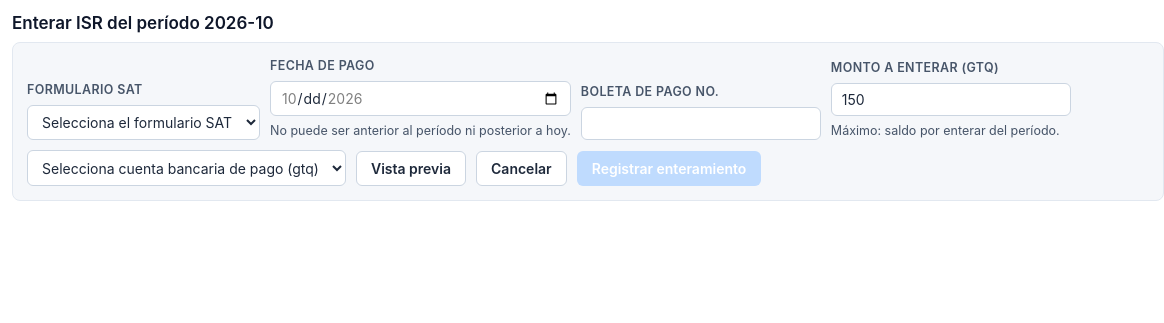
Test: FormularioEnteramiento › muestra la vista previa y la borra al cambiar un campo
The width and height of the screenshot is (1164, 323).
Select "SAT-1331" in the dropdown labelled "Formulario SAT": (144, 123) [27, 105, 260, 140]
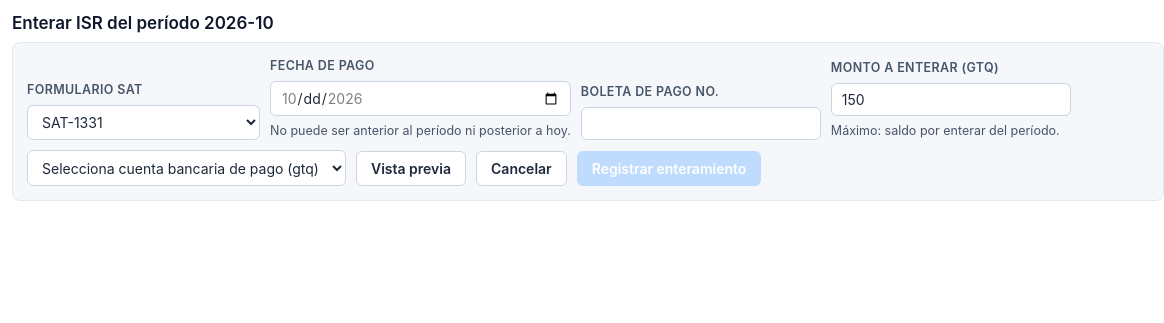
In the date field labelled "Fecha de pago": (420, 99) [270, 81, 571, 116], type "2026-10-10"
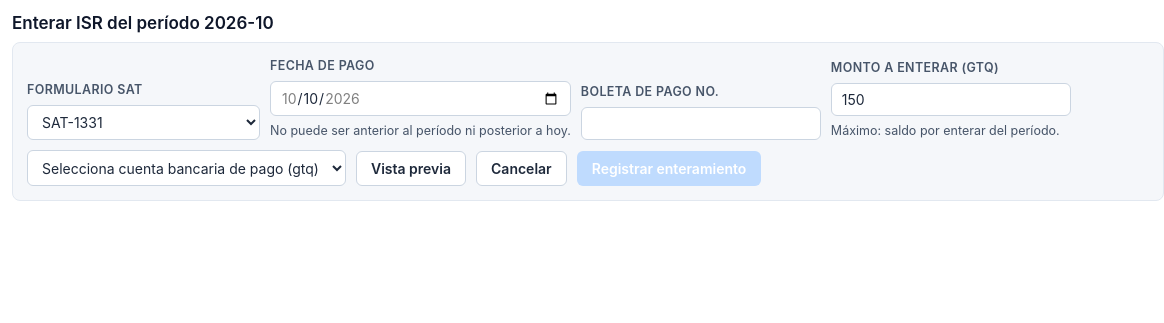
In the field labelled "Boleta de pago No.": (701, 124) [581, 107, 821, 140], type "B-1"
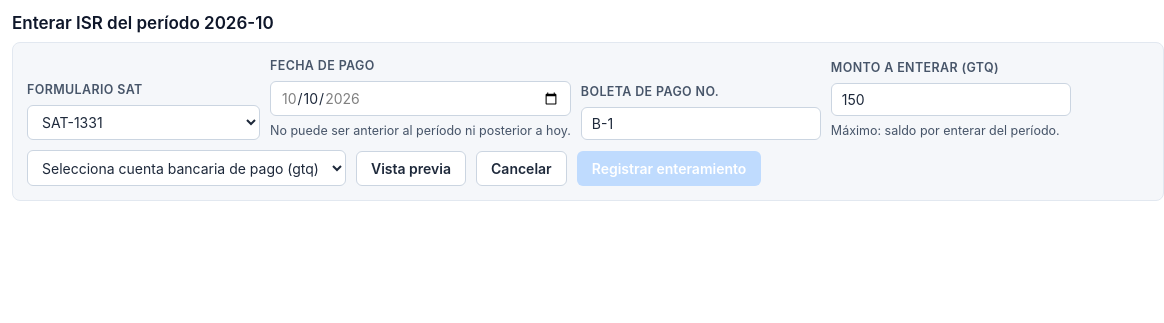
Select "Banco Industrial 001" in the dropdown named "Cuenta bancaria de pago (GTQ)": (186, 168) [27, 150, 346, 186]
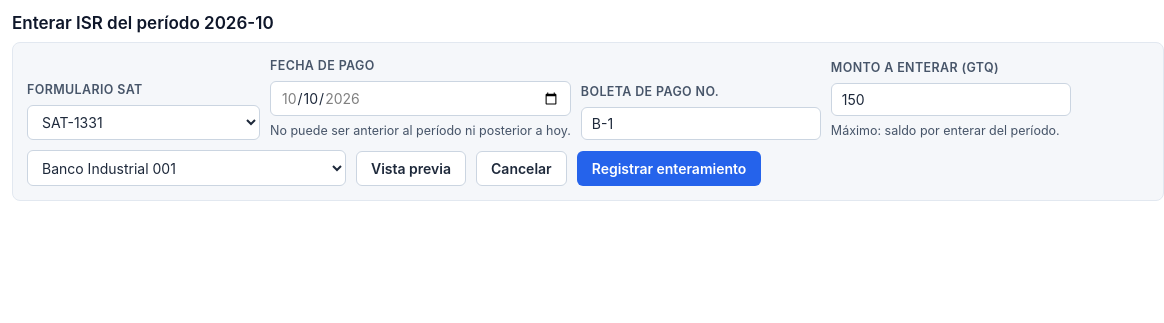
Click the button "Vista previa": (411, 168) [356, 151, 466, 186]
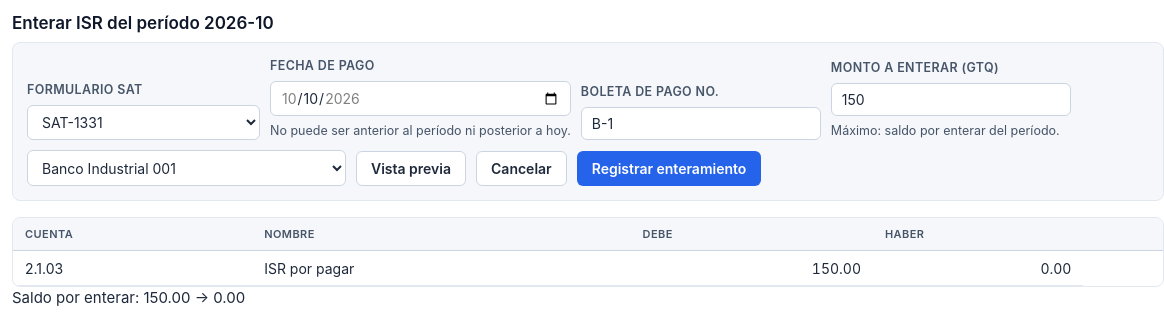
Result: the text "ISR por pagar" is shown at [252, 251, 630, 286]
Replace the text in the field labelled "Boleta de pago No." with "B-2": (701, 124) [581, 107, 821, 140]
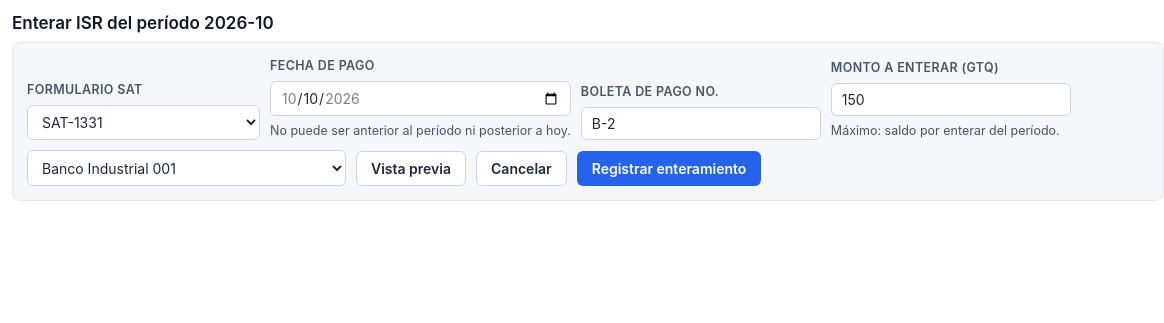
Result: the text "ISR por pagar" is gone
